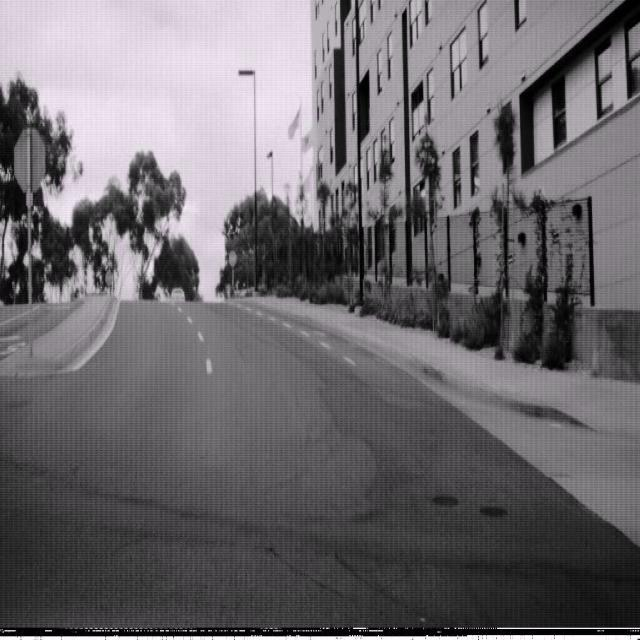stop_sign: (228, 249, 237, 266)
